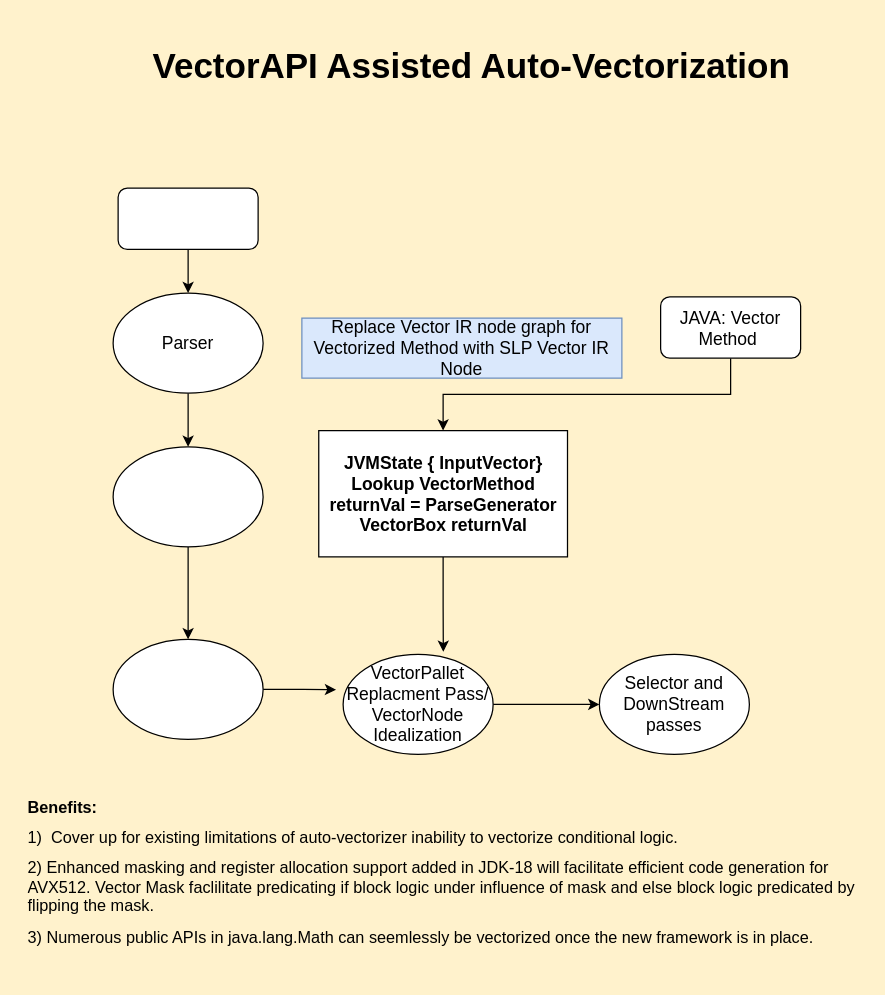
Some shapes in this 885 by 995 pixel diagram are drawn without their labels. Here are the shapes that lost their labels. From the top down, the box of each, then its label:
(117, 187, 258, 249): JAVA: Annotated Scalar Method
(112, 446, 263, 547): Optimize
(112, 638, 263, 739): SLP Vectorizer
